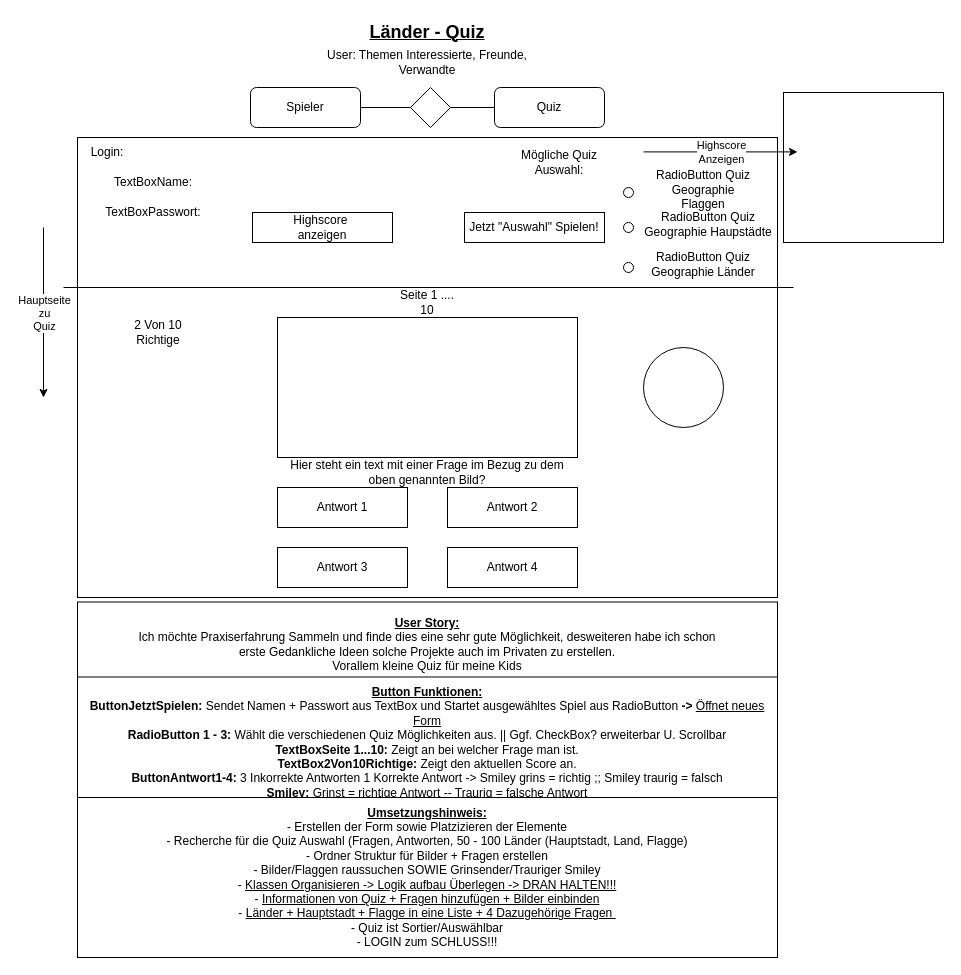
Image size: 961x975. Some labels were removed from this diagram. The centre of each missing label's shape, as x and y in pixels:
"1:n" goes at point (430, 107).
"BILD" goes at point (427, 387).
"Liste: 1. Name 2. Name 3. ... ... ." goes at point (863, 167).
"Smiley für richtig u. falsch" goes at point (683, 387).
